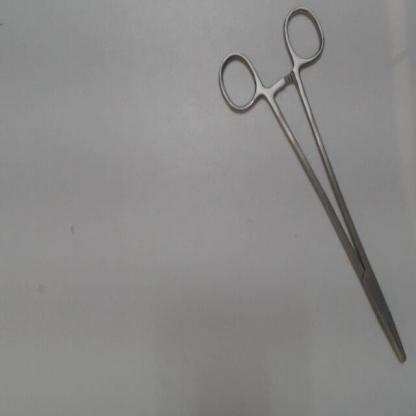8 Mayo Needle Holder: (208, 0, 413, 380)
